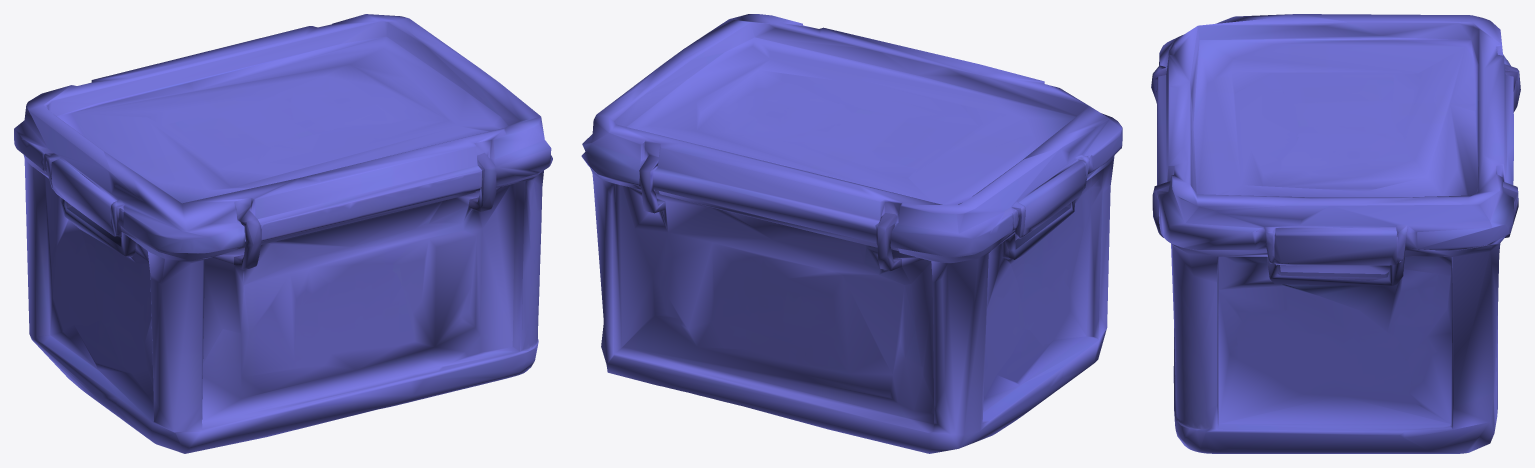
File: model.progressive.glb
3 renders of one model, left to right at view 1: azimuth 30°, elevation 25°; view 2: azimuth 150°, elevation 25°; view 3: azimuth 270°, elevation 25°, orthographic. The views are drawn at different scales.
Parts seen in each view (by area): view 1: material; view 2: material; view 3: material.
Part boxes in pixels (x1=…): material: x1=14, y1=14, x2=552, y2=453; material: x1=581, y1=14, x2=1122, y2=453; material: x1=1151, y1=14, x2=1520, y2=453.
Bounding box in the file's own units: 0.9655 × 0.5668 × 0.7386.
Materials: 1 (1 with a texture image).
